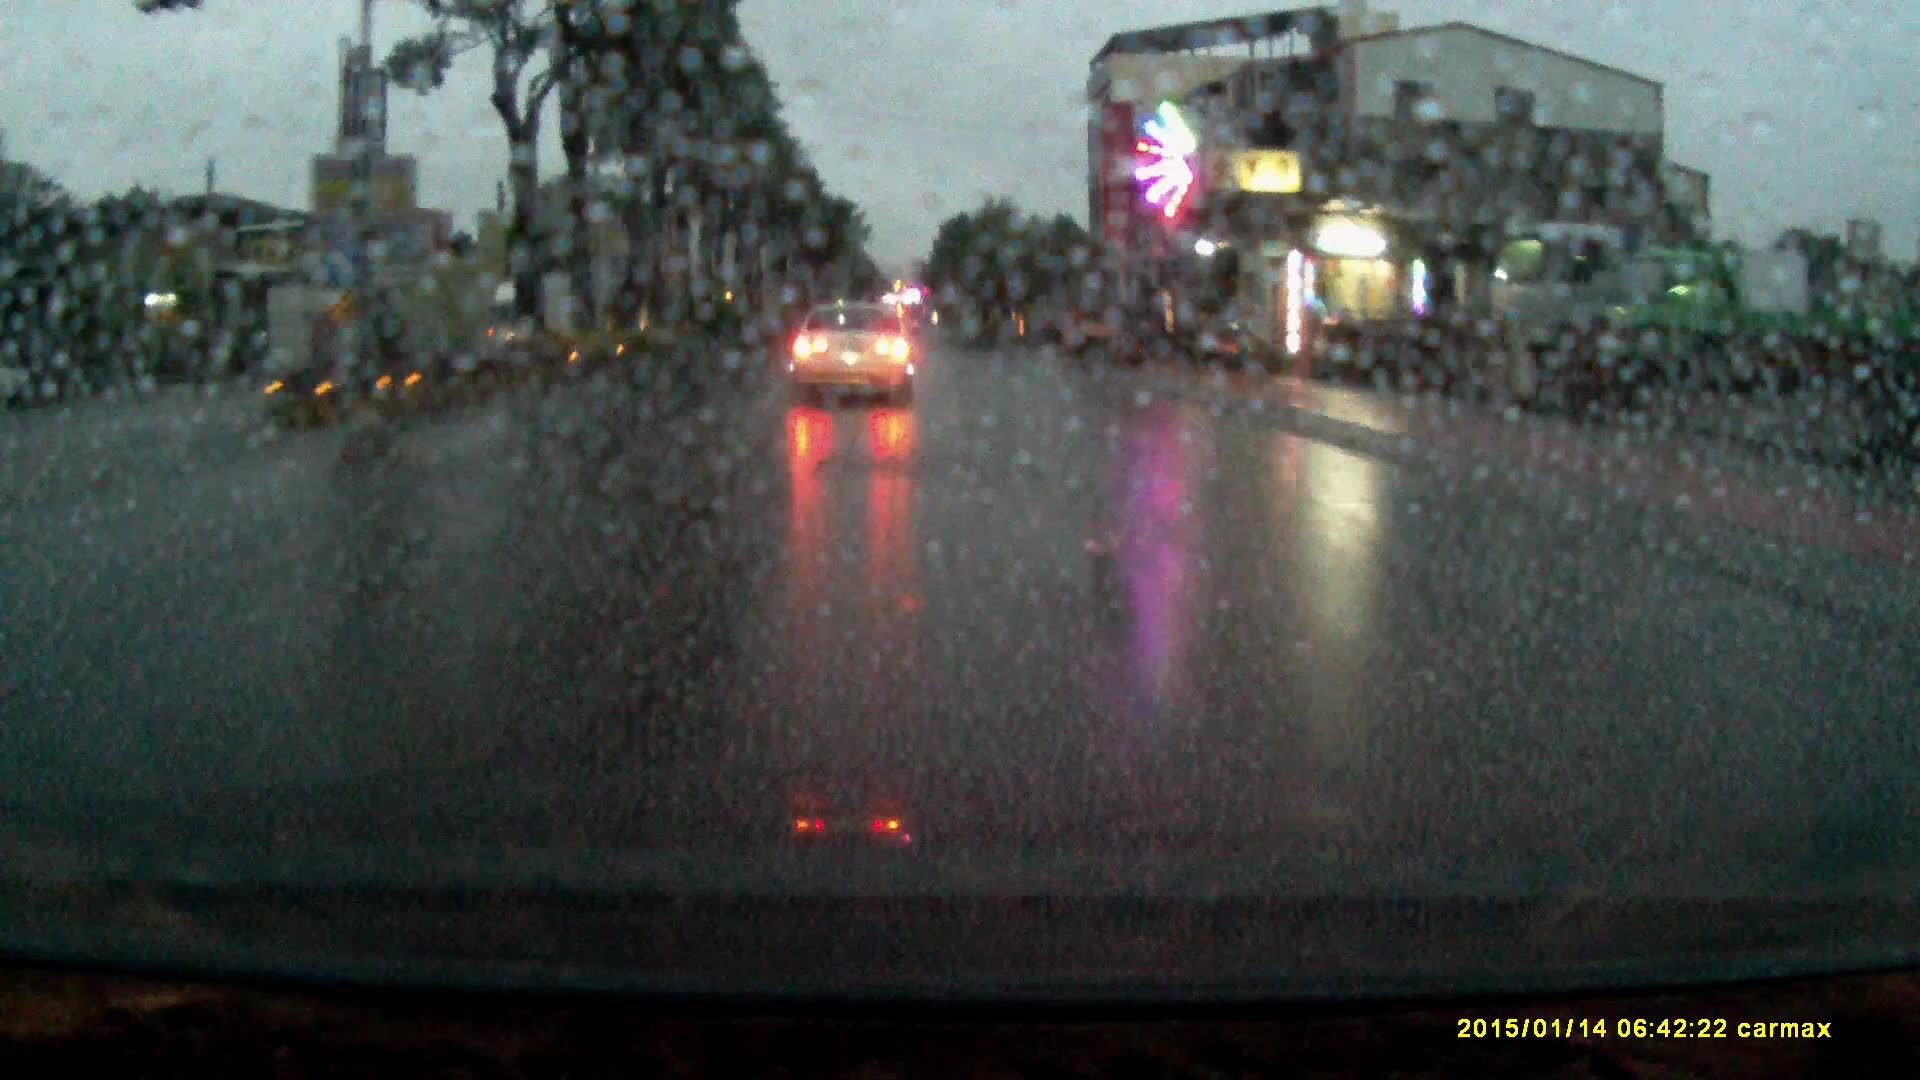vehicle: (1563, 253, 1920, 396), (1476, 223, 1633, 382), (789, 301, 916, 411), (483, 280, 578, 349)
